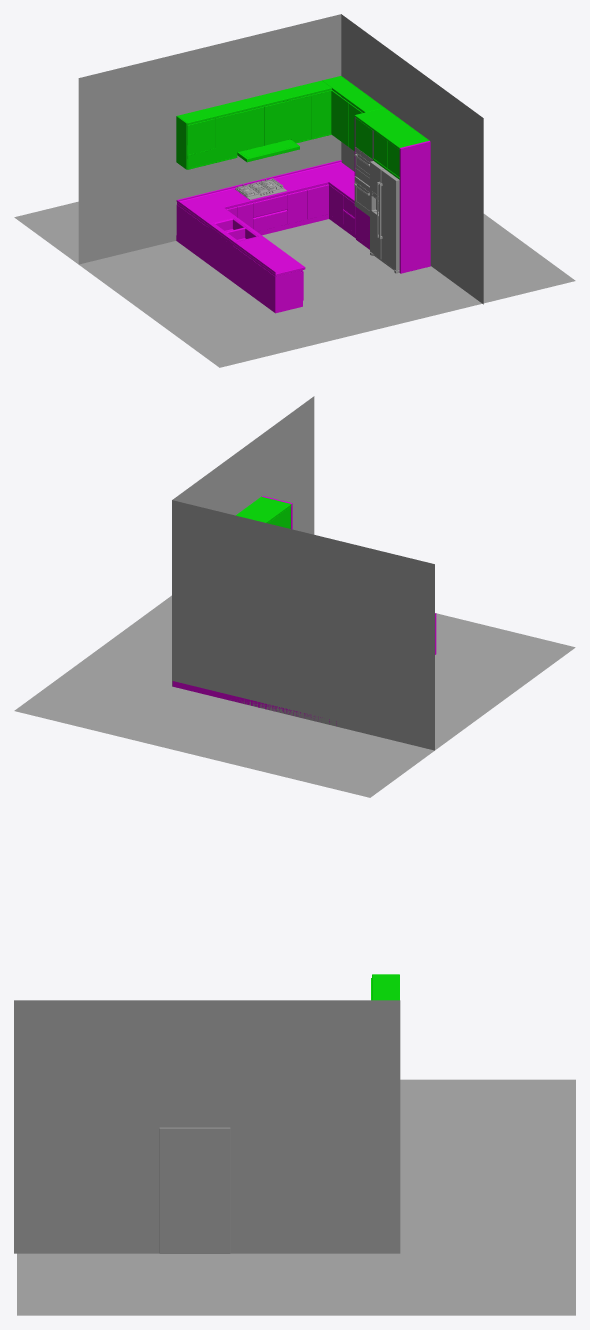
Rendered from Kitchen.fbx.
3 renders of one model, top to bottom at view 1: azimuth 30°, elevation 25°; view 2: azimuth 150°, elevation 25°; view 3: azimuth 270°, elevation 25°, orthographic. The views are drawn at different scales.
Parts seen in each view (by area): view 1: pPlane12, pPlane11, pCube101, polySurface51, polySurface43, polySurface44, pCube63, Box193624, pCube65, polySurface52, pCube61, pCube62 (+16 smaller); view 2: pPlane12, pPlane11, pCube65, pCube84; view 3: pPlane12, pPlane11, Box193629, pCube63.
Boxes of the visible parts, x1,y1,x2,y2 form: pPlane12: [78, 14, 483, 304]; pPlane11: [14, 201, 575, 367]; pCube101: [399, 141, 430, 273]; polySurface51: [177, 162, 354, 250]; polySurface43: [176, 205, 240, 281]; polySurface44: [240, 251, 302, 307]; pCube63: [177, 80, 331, 124]; Box193624: [381, 169, 399, 270]; pCube65: [354, 108, 428, 149]; polySurface52: [240, 241, 305, 276]; pCube61: [237, 106, 264, 152]; pCube62: [264, 100, 291, 145]; pPlane12: [172, 396, 434, 750]; pPlane11: [14, 595, 575, 797]; pCube65: [236, 497, 291, 523]; pCube84: [172, 681, 336, 725]; pPlane12: [14, 1000, 400, 1253]; pPlane11: [17, 1079, 575, 1315]; Box193629: [159, 1127, 230, 1253]; pCube63: [372, 975, 399, 1000].
Size of the model in its own units: 716 by 358 by 720.
